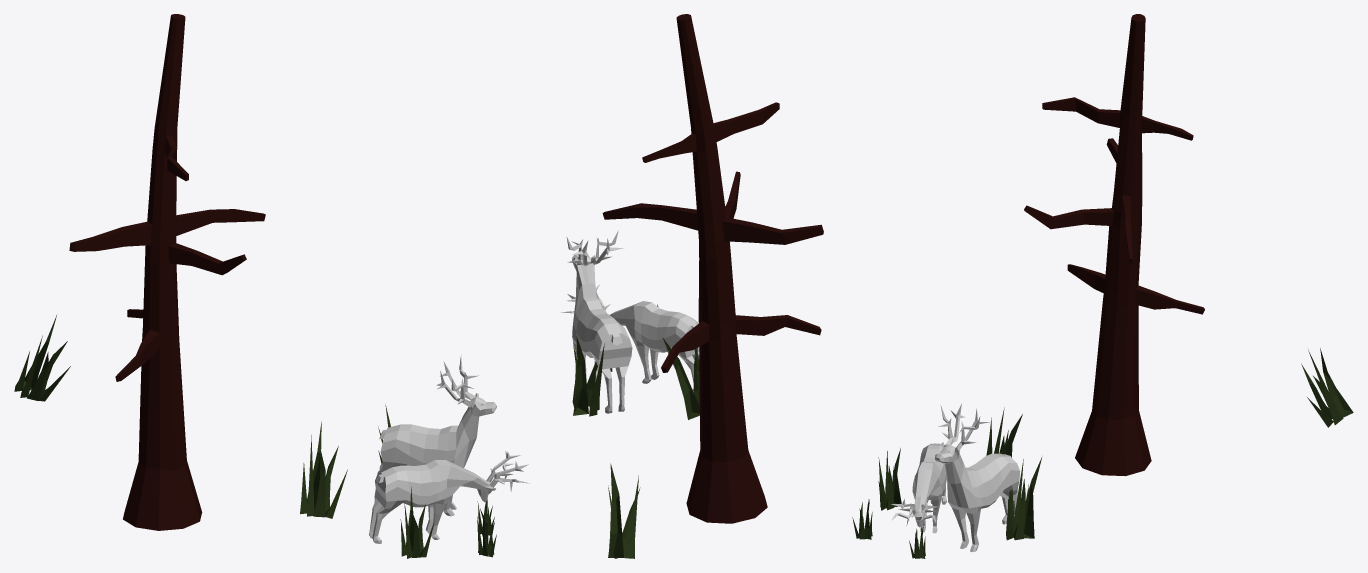
File: jelen.obj
The picture shows the model from 3 angles, left to right: view 1: azimuth 30°, elevation 25°; view 2: azimuth 150°, elevation 25°; view 3: azimuth 270°, elevation 25°; orthographic projection. The views are drawn at different scales.
Visible parts, largest first — view 1: Tree__2-_1, Elk_model_2.001, Elk_model.001, Grass_3, Grass_5, Grass_1; view 2: Tree__2-_1, Elk_model.001, Elk_model_2.001, Grass_5, Grass_4, Grass_3; view 3: Tree__2-_1, Elk_model.001, Elk_model_2.001, Grass_4, Grass_5, Grass_1, Grass_3.
Part boxes in pixels (x1,y1,x2,y2): Tree__2-_1: [69, 14, 265, 530]; Elk_model_2.001: [369, 451, 530, 543]; Elk_model.001: [374, 354, 496, 516]; Grass_3: [300, 421, 347, 518]; Grass_5: [14, 315, 70, 401]; Grass_1: [400, 487, 434, 558]; Tree__2-_1: [602, 14, 823, 523]; Elk_model.001: [566, 230, 632, 413]; Elk_model_2.001: [561, 284, 699, 392]; Grass_5: [608, 463, 640, 558]; Grass_4: [572, 336, 604, 416]; Grass_3: [662, 337, 699, 419]; Tree__2-_1: [1024, 14, 1204, 476]; Elk_model.001: [935, 403, 1020, 552]; Elk_model_2.001: [891, 443, 946, 533]; Grass_4: [1006, 457, 1041, 540]; Grass_5: [1301, 348, 1353, 427]; Grass_1: [878, 448, 901, 510]; Grass_3: [986, 407, 1022, 457].
Bounding box in the file's own units: 7.14 × 9.4 × 9.33.
